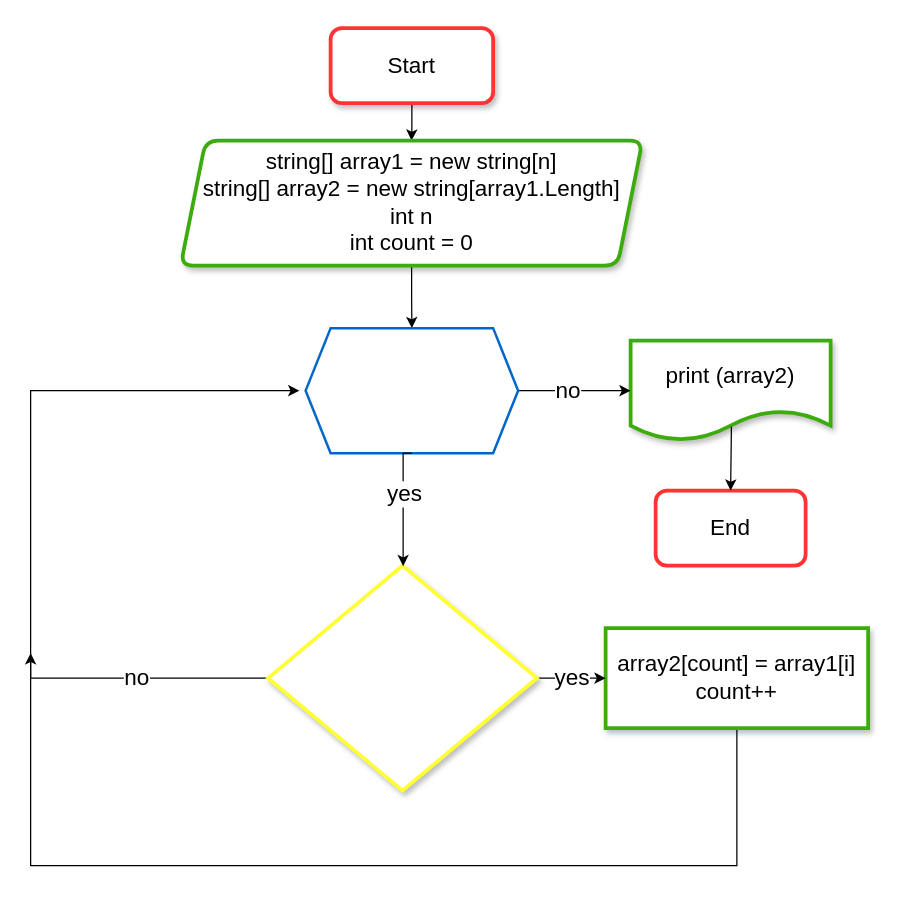
The diagram is 899 pixels wide and 898 high, and some of its shapes have lost their labels. Here are the shapes that lost their labels. From the top down, the centre of each, then its label:
point 411,390: for (int i = 0; i < array1.Length; i++
point 403,679: array1[i].Length <= 3?
